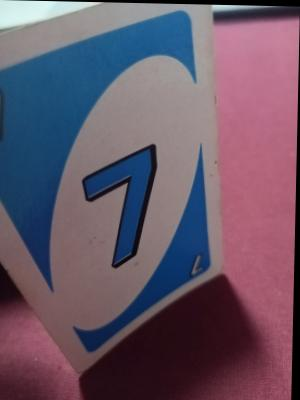blue: (2, 53, 210, 285)
